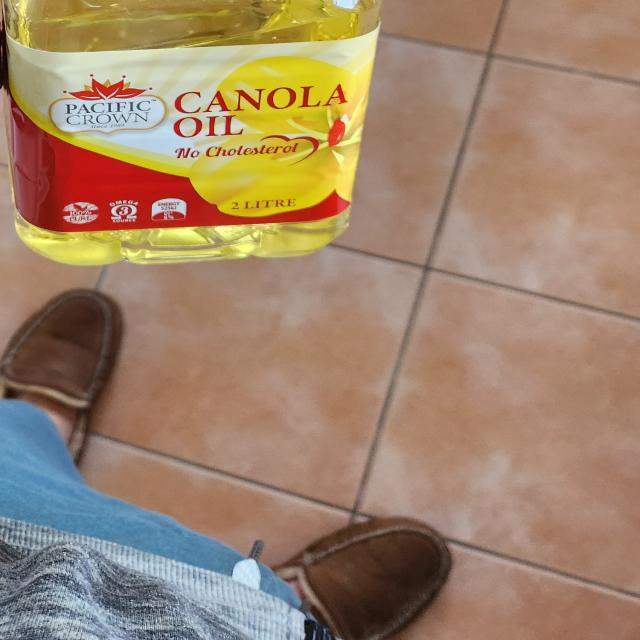canola oil: (0, 0, 401, 269)
